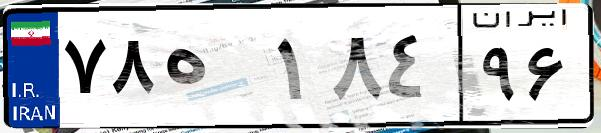1: (270, 28, 330, 110)
4: (385, 28, 445, 110)
6: (525, 38, 570, 115)
7: (57, 26, 110, 100)
8: (330, 28, 385, 110), (110, 28, 158, 98)
9: (475, 38, 525, 113)
ه: (158, 20, 270, 120)
